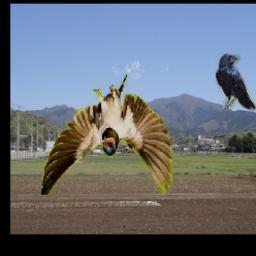Crow: (216, 53, 256, 112)
Swallow: (40, 74, 171, 196)
